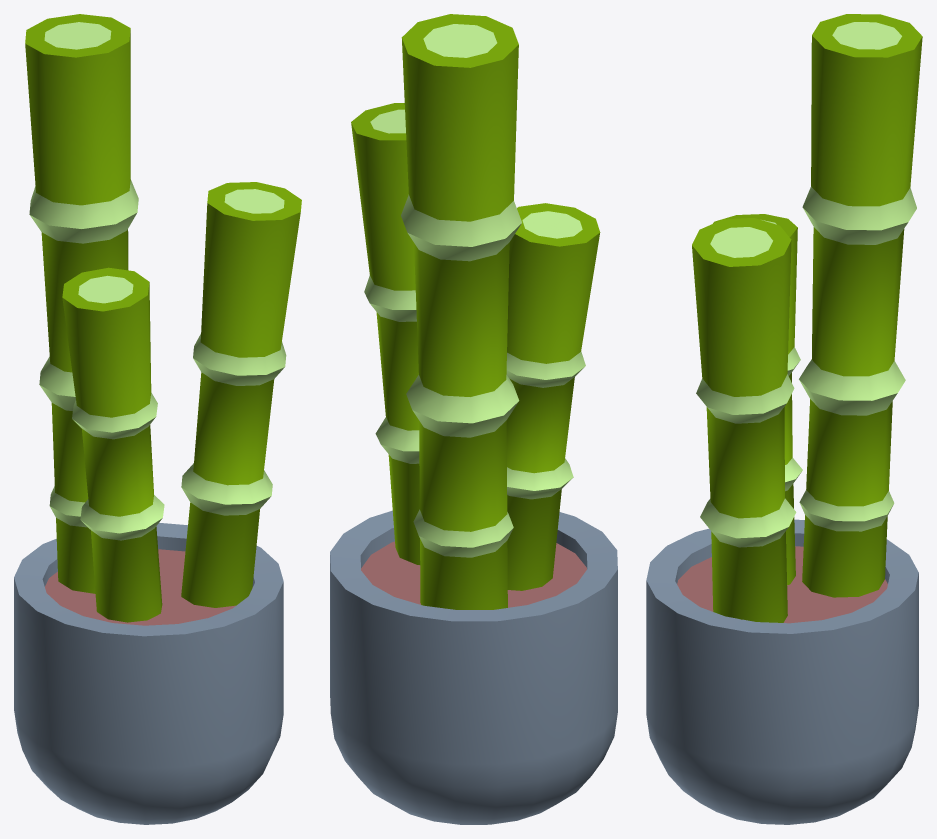
The model's file is bamboo.glb.
3 renders of one model, left to right at view 1: azimuth 30°, elevation 25°; view 2: azimuth 150°, elevation 25°; view 3: azimuth 270°, elevation 25°, orthographic. The views are drawn at different scales.
Parts seen in each view (by area): view 1: Decoration_Bamboo; view 2: Decoration_Bamboo; view 3: Decoration_Bamboo.
Boxes of the visible parts, x1,y1,x2,y2 form: Decoration_Bamboo: (14,14,301,824); Decoration_Bamboo: (330,14,617,824); Decoration_Bamboo: (646,14,922,824).
Size of the model in its own units: 0.9851 by 2.88 by 0.9567.
1 material, 1 textured.
